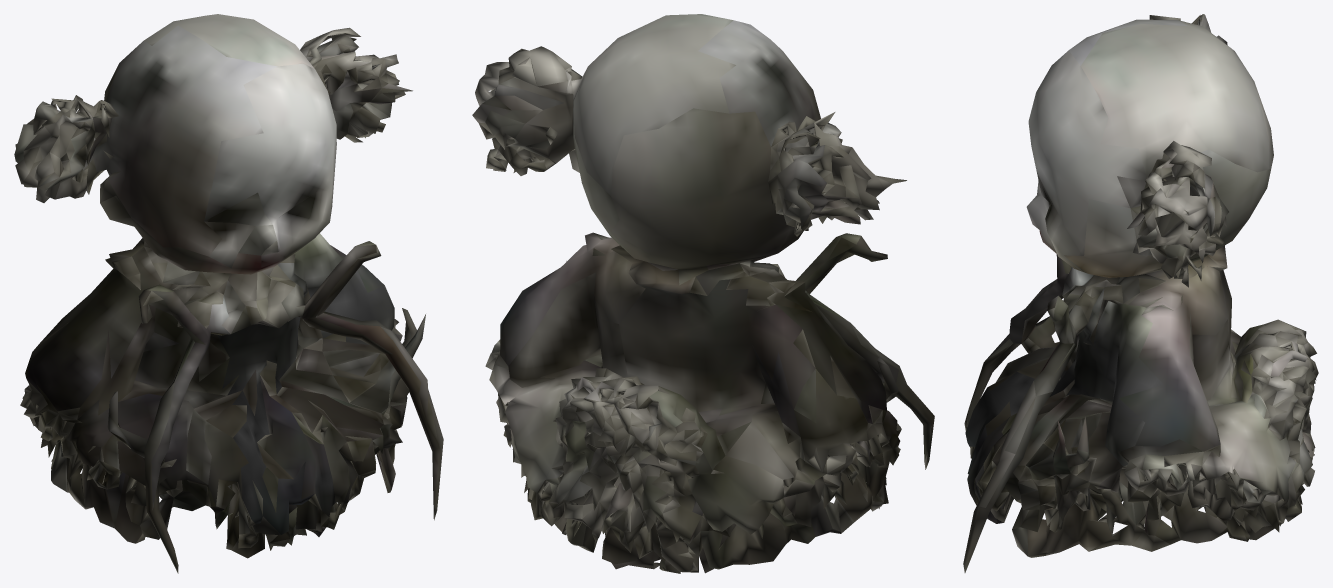
Rendered from spider.glb.
3 views of the same model, side by side, from view 1: azimuth 30°, elevation 25°; view 2: azimuth 150°, elevation 25°; view 3: azimuth 270°, elevation 25° (orthographic). The views are drawn at different scales.
Visible parts, largest first — view 1: Object_2; view 2: Object_2; view 3: Object_2.
Boxes of the visible parts, x1,y1,x2,y2 form: Object_2: (14,14,443,573); Object_2: (472,14,934,573); Object_2: (963,14,1318,572).
Size of the model in its own units: 1.72 by 1.99 by 1.33.
Materials: 1 (1 with a texture image).
